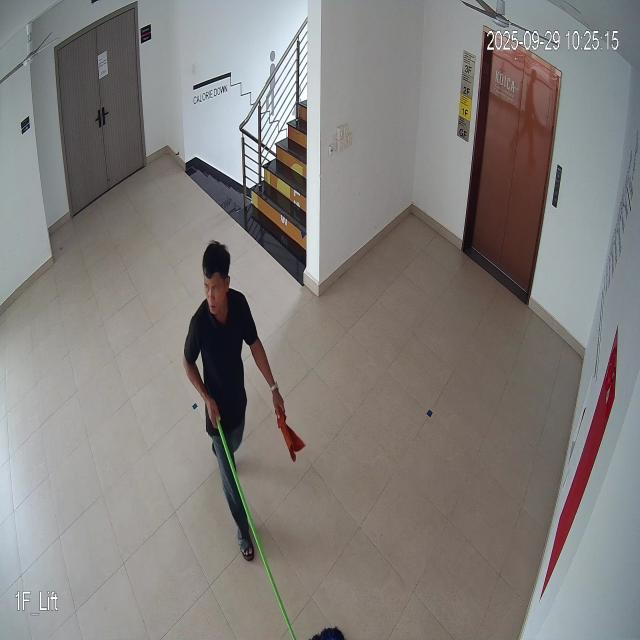face: (200, 242, 231, 321)
